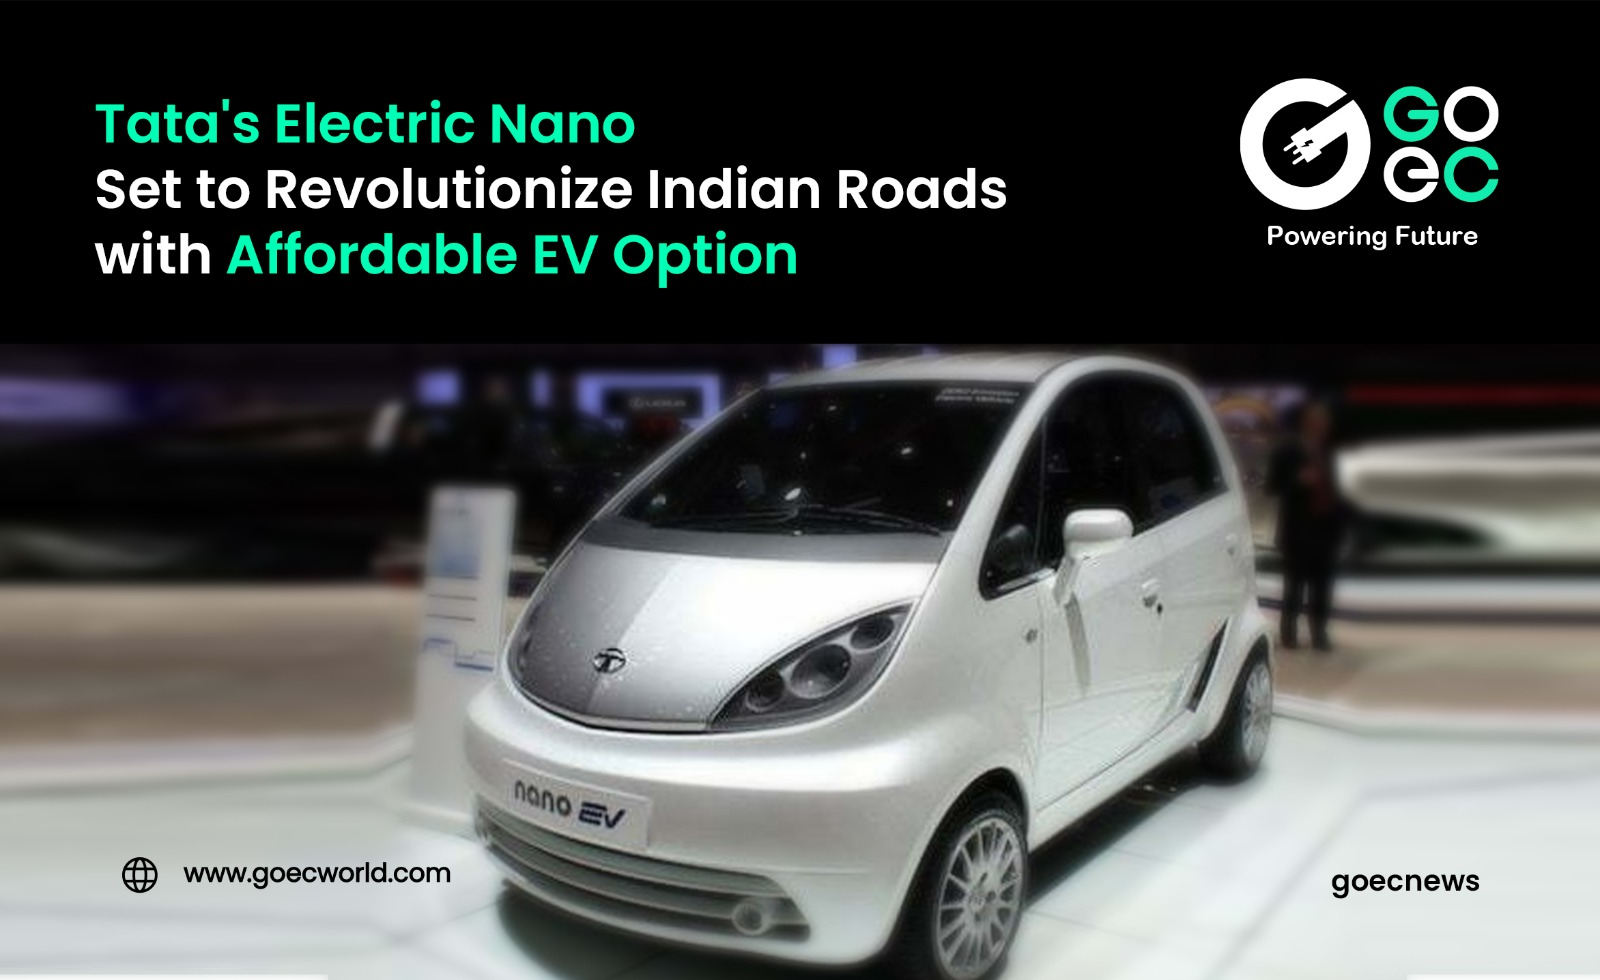Nano: (464, 340, 1273, 980)
